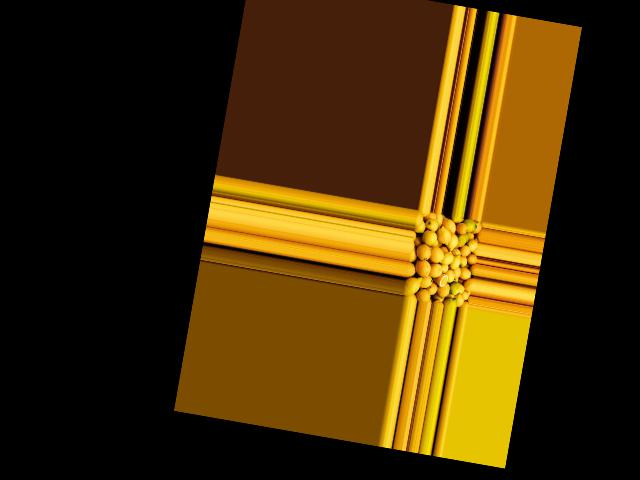lemon: (407, 248, 417, 262)
